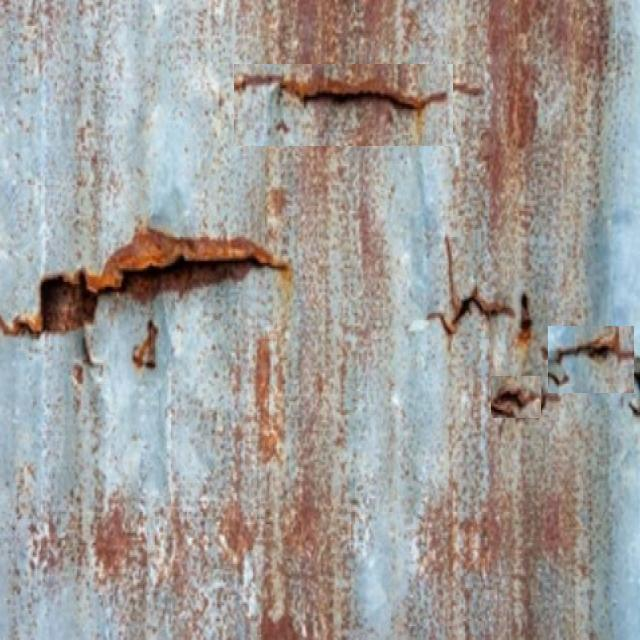Corrosion: (0, 228, 290, 336), (489, 0, 609, 258), (271, 0, 450, 146), (430, 249, 516, 338), (547, 326, 640, 394), (492, 378, 541, 418), (516, 293, 534, 352)
